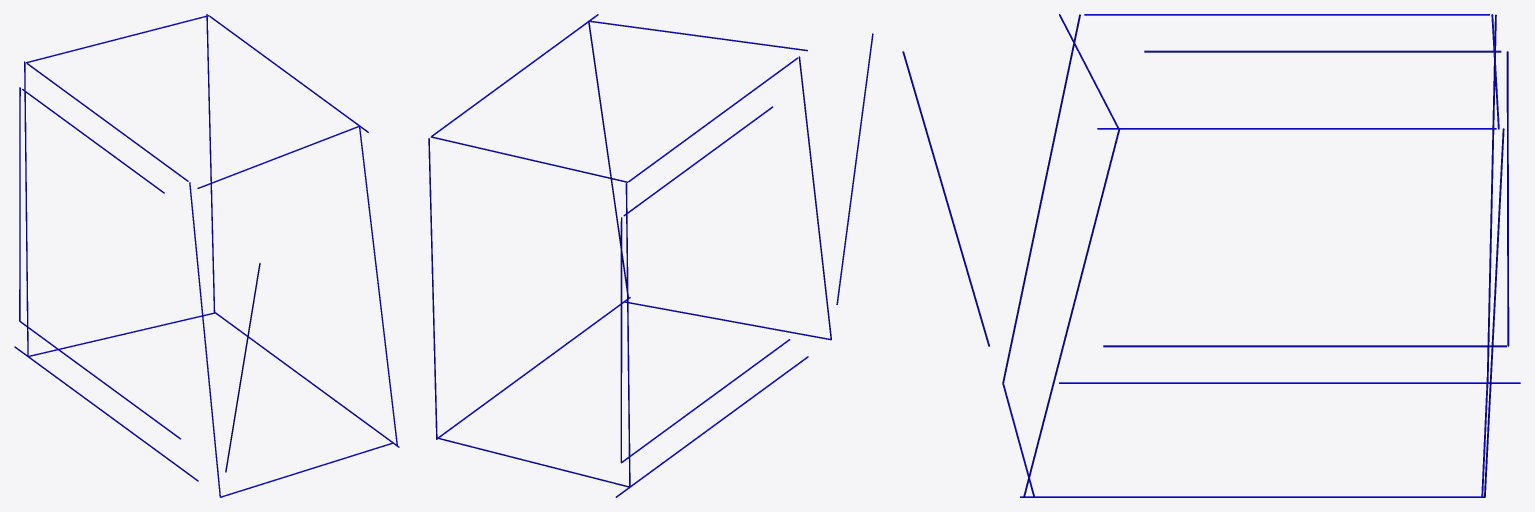
The model's file is corrected_3d_strokes.glb.
3 views of the same model, side by side, from view 1: azimuth 30°, elevation 25°; view 2: azimuth 150°, elevation 25°; view 3: azimuth 270°, elevation 25° (orthographic). The views are drawn at different scales.
Parts seen in each view (by area): view 1: world; view 2: world; view 3: world.
Boxes of the visible parts, x1,y1,x2,y2 form: world: (14,14,399,497); world: (428,14,873,497); world: (902,14,1520,497).
Size of the model in its own units: 5.78 by 8.69 by 13.16.
